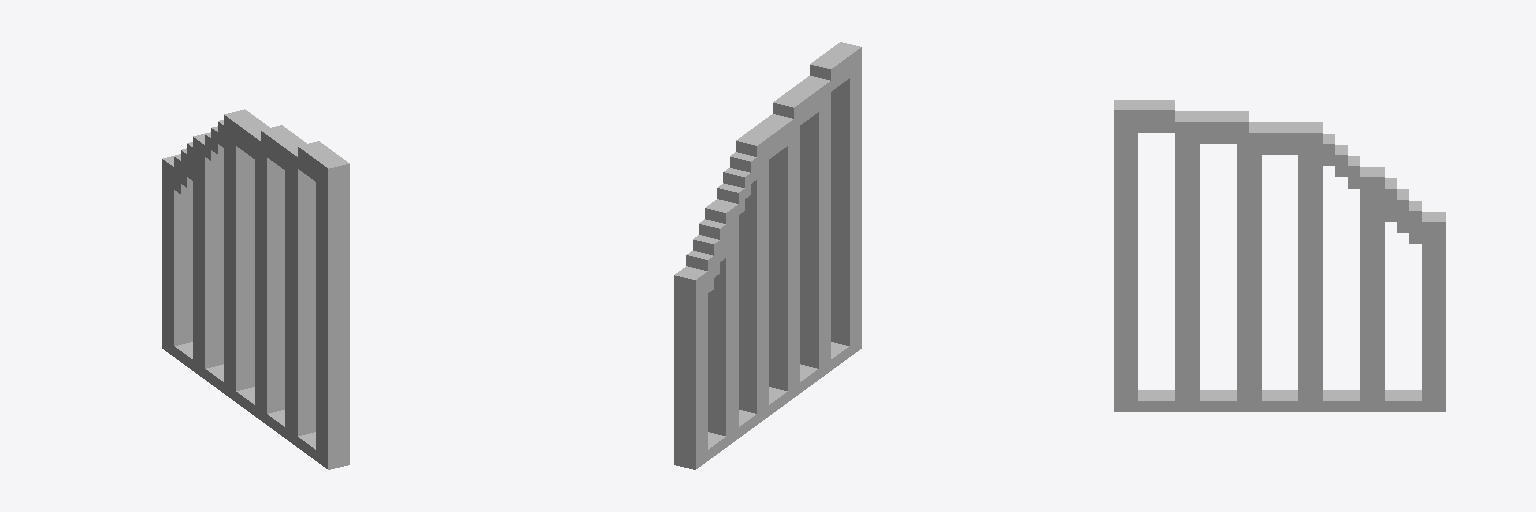
The model's file is gate.obj.
3 renders of one model, left to right at view 1: azimuth 30°, elevation 25°; view 2: azimuth 150°, elevation 25°; view 3: azimuth 270°, elevation 25°, orthographic.
Parts seen in each view (by area): view 1: object 1; view 2: object 1; view 3: object 1.
Boxes of the visible parts, x1=… form: object 1: x1=162, y1=109, x2=349, y2=469; object 1: x1=674, y1=42, x2=861, y2=469; object 1: x1=1114, y1=100, x2=1445, y2=411.
Bounding box in the file's own units: 0.2 × 2.7 × 2.7.